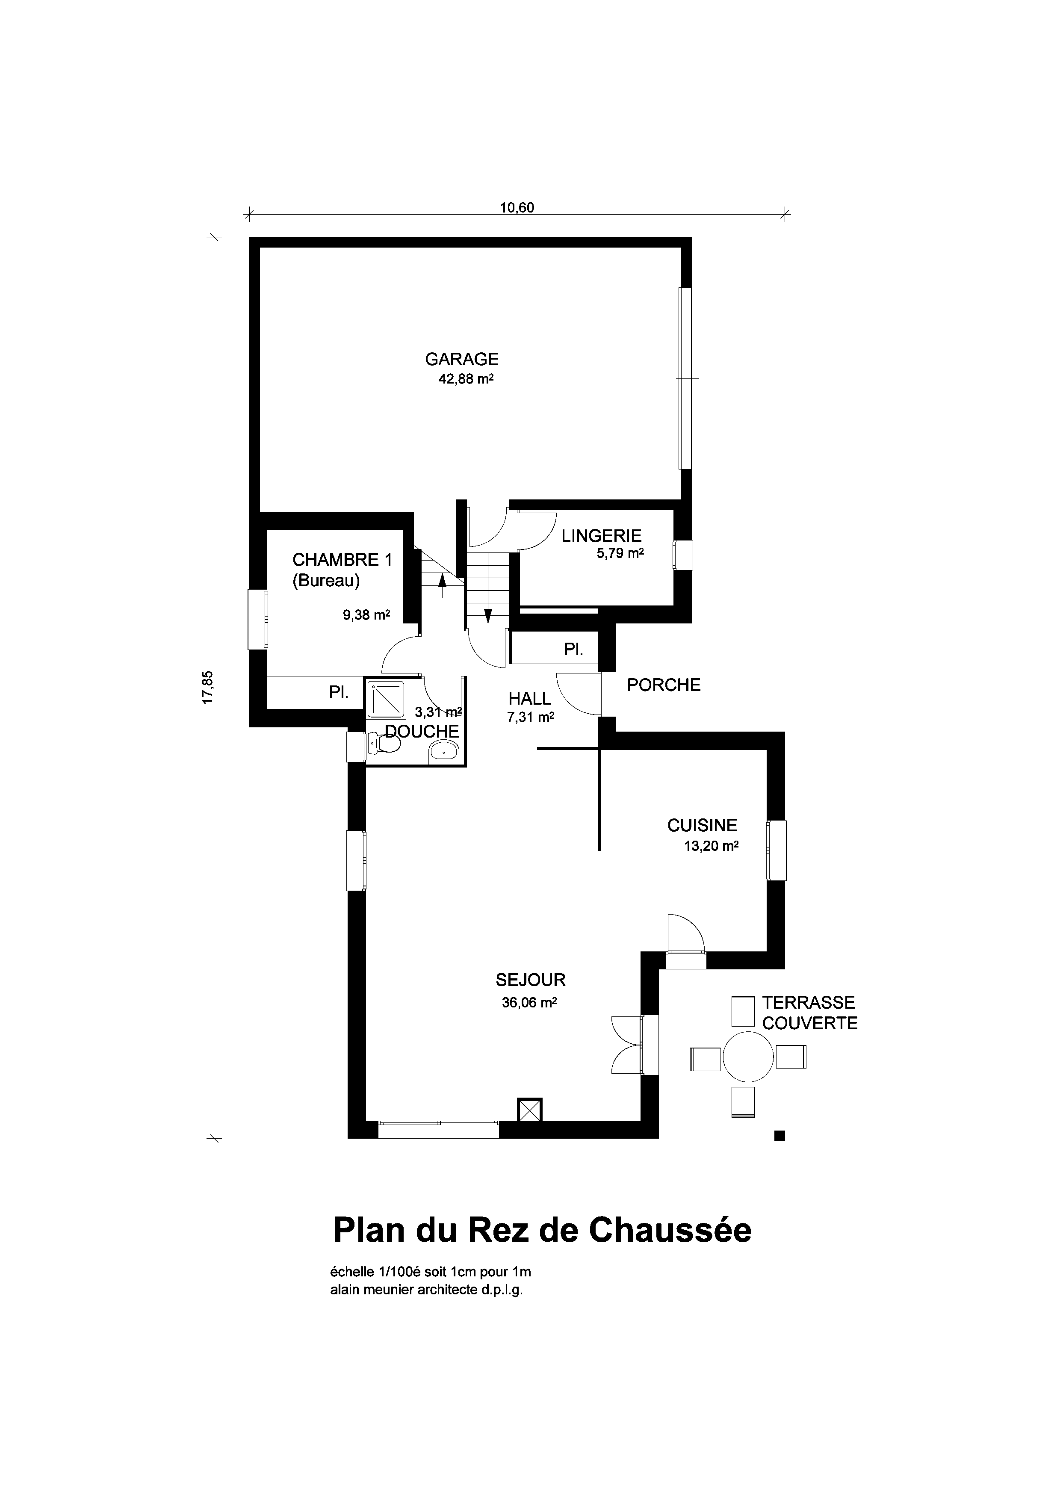ceramic sink: (428, 739, 460, 766)
door: (556, 672, 616, 717), (667, 913, 707, 970), (467, 507, 509, 548), (421, 675, 465, 716), (517, 510, 558, 554), (465, 628, 509, 667), (381, 634, 422, 675)
sliding door: (379, 1122, 499, 1139)
toilet: (368, 732, 402, 756)
window: (610, 1014, 658, 1075), (366, 679, 406, 720), (765, 820, 788, 881), (247, 589, 268, 651), (346, 830, 367, 892), (671, 540, 693, 572), (345, 731, 367, 763)
